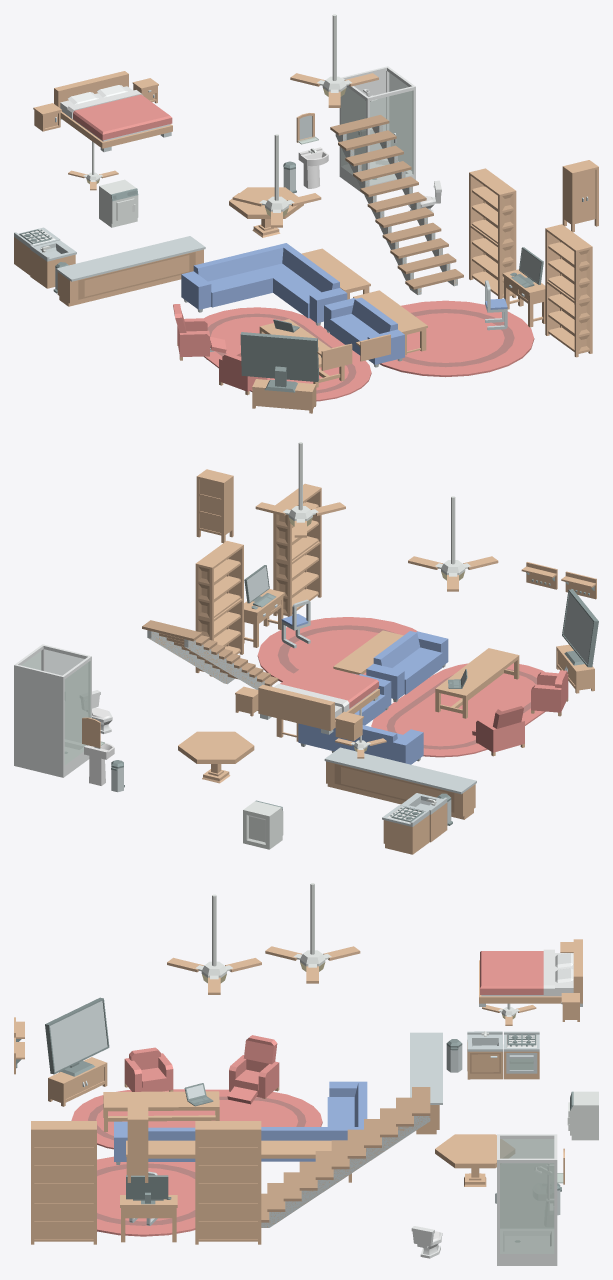
Rendered from room_layout_tProps_v1.fbx.
3 views of the same model, one above another, from view 1: azimuth 30°, elevation 25°; view 2: azimuth 150°, elevation 25°; view 3: azimuth 270°, elevation 25° (orthographic). The views are drawn at different scales.
Visible parts, largest first — view 1: rugRound(Clone).001, loungeDesignSofaCorner(Clone).001, stairsOpen(Clone), kitchenBar(Clone), shower(Clone), rugRounded(Clone), computerScreen(Clone).001, cover.002, loungeDesignSofa(Clone), bookcaseClosedWide(Clone).002, bookcaseClosedWide(Clone).003, bookcaseClosedWide(Clone).001 (+27 smaller); view 2: shower(Clone), rugRounded(Clone), kitchenBar(Clone), rugRound(Clone).001, loungeDesignSofa(Clone), loungeDesignSofaCorner(Clone).001, bookcaseClosedWide(Clone).002, bedDouble(Clone), cover.002, table(Clone), bookcaseClosedDoors(Clone), tableRound(Clone) (+25 smaller); view 3: shower(Clone), stairsOpen(Clone), rugRounded(Clone), rugRound(Clone).001, bookcaseClosedWide(Clone).002, bookcaseClosedWide(Clone).003, bookcaseClosedWide(Clone), bookcaseClosedWide(Clone).001, computerScreen(Clone).001, cover.002, loungeDesignSofaCorner(Clone).001, loungeChairRelax(Clone) (+23 smaller).
Boxes of the visible parts, bbox=[...] form: rugRound(Clone).001: bbox=[379, 300, 534, 377]; loungeDesignSofaCorner(Clone).001: bbox=[181, 243, 347, 325]; stairsOpen(Clone): bbox=[330, 115, 463, 289]; kitchenBar(Clone): bbox=[56, 236, 205, 306]; shower(Clone): bbox=[339, 66, 415, 193]; rugRounded(Clone): bbox=[203, 307, 371, 401]; computerScreen(Clone).001: bbox=[240, 332, 319, 392]; cover.002: bbox=[67, 90, 172, 140]; loungeDesignSofa(Clone): bbox=[324, 297, 404, 367]; bookcaseClosedWide(Clone).002: bbox=[469, 168, 516, 249]; bookcaseClosedWide(Clone).003: bbox=[545, 224, 592, 305]; bookcaseClosedWide(Clone).001: bbox=[545, 280, 592, 357]; shower(Clone): bbox=[14, 644, 91, 777]; rugRounded(Clone): bbox=[371, 663, 545, 757]; kitchenBar(Clone): bbox=[324, 747, 476, 819]; rugRound(Clone).001: bbox=[257, 617, 417, 682]; loungeDesignSofa(Clone): bbox=[366, 631, 448, 702]; loungeDesignSofaCorner(Clone).001: bbox=[298, 674, 423, 764]; bookcaseClosedWide(Clone).002: bbox=[195, 541, 243, 623]; bedDouble(Clone): bbox=[258, 684, 379, 734]; cover.002: bbox=[274, 663, 378, 712]; table(Clone): bbox=[435, 648, 519, 718]; bookcaseClosedDoors(Clone): bbox=[196, 469, 233, 543]; tableRound(Clone): bbox=[178, 731, 254, 783]; shower(Clone): bbox=[497, 1134, 557, 1265]; stairsOpen(Clone): bbox=[261, 1087, 430, 1222]; rugRounded(Clone): bbox=[71, 1089, 322, 1149]; rugRound(Clone).001: bbox=[97, 1156, 195, 1236]; bookcaseClosedWide(Clone).002: bbox=[195, 1121, 261, 1188]; bookcaseClosedWide(Clone).003: bbox=[31, 1121, 96, 1188]; bookcaseClosedWide(Clone): bbox=[195, 1185, 261, 1244]; bookcaseClosedWide(Clone).001: bbox=[31, 1185, 96, 1244]; computerScreen(Clone).001: bbox=[45, 997, 109, 1076]; cover.002: bbox=[480, 949, 554, 995]; loungeDesignSofaCorner(Clone).001: bbox=[261, 1081, 367, 1161]; loungeChairRelax(Clone): bbox=[227, 1035, 279, 1104].
Bounding box in the file's own units: 1102 × 734 × 1311.
